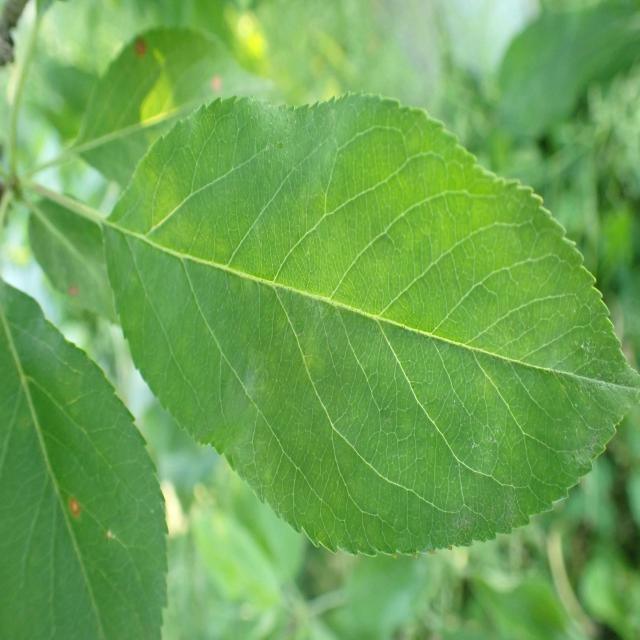scab: (146, 150, 571, 498)
